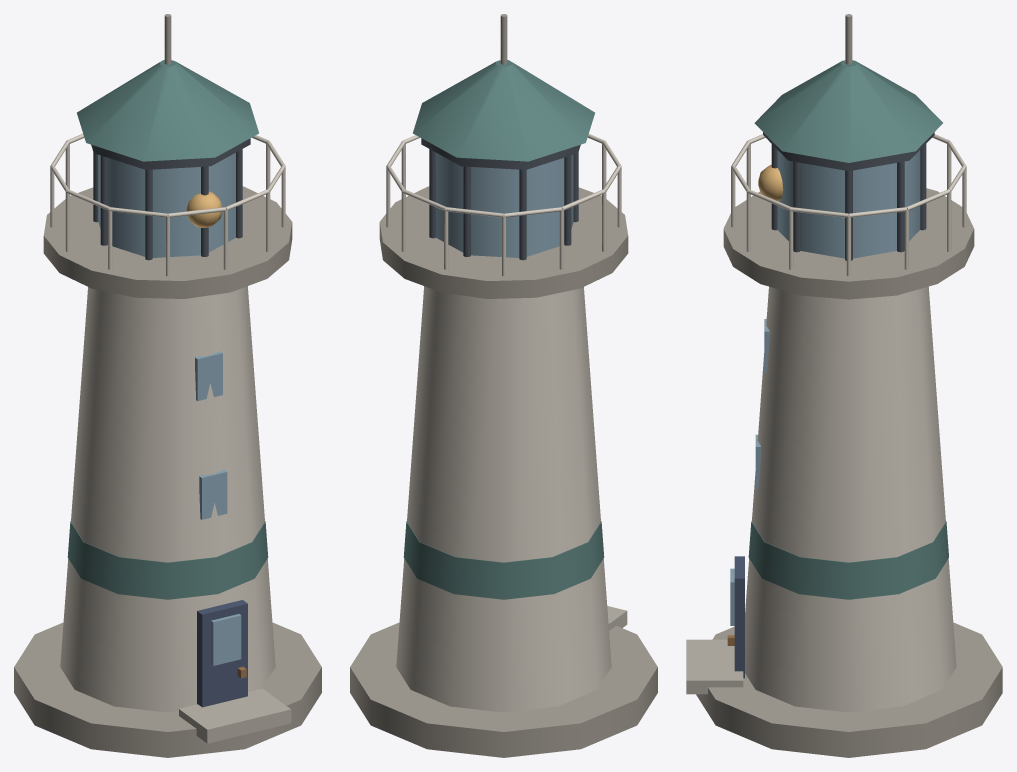
File: komachi-lighthouse.glb
The picture shows the model from 3 angles, left to right: view 1: azimuth 30°, elevation 25°; view 2: azimuth 150°, elevation 25°; view 3: azimuth 270°, elevation 25°; orthographic projection.
Visible parts, largest first — view 1: Lighthouse_Tower_And_Gallery, Lighthouse_Lens; view 2: Lighthouse_Tower_And_Gallery; view 3: Lighthouse_Tower_And_Gallery, Lighthouse_Lens.
Boxes of the visible parts, left/top/right/bottom form: Lighthouse_Tower_And_Gallery: left=14, top=14, right=321, bottom=757; Lighthouse_Lens: left=186, top=191, right=222, bottom=227; Lighthouse_Tower_And_Gallery: left=350, top=14, right=657, bottom=757; Lighthouse_Tower_And_Gallery: left=686, top=14, right=1002, bottom=757; Lighthouse_Lens: left=758, top=164, right=783, bottom=201.
Bounding box in the file's own units: 0.7 × 1.7 × 0.72.
